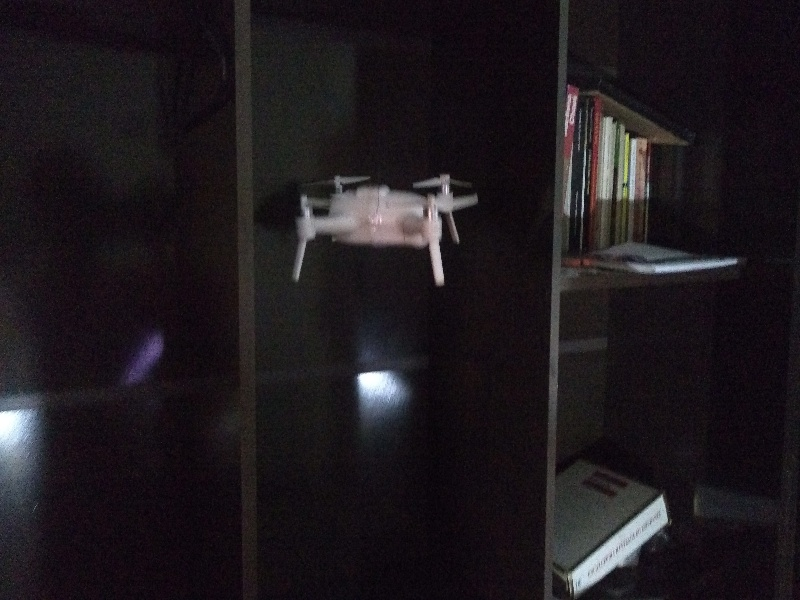drone: (284, 169, 483, 287)
